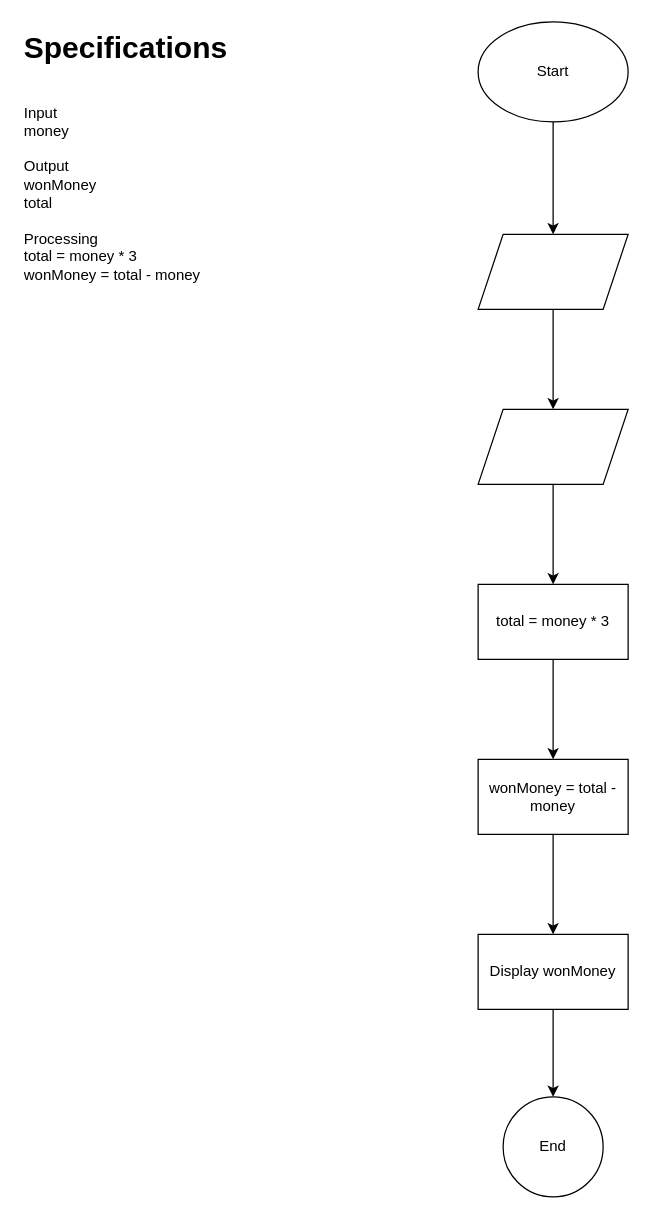
Some shapes in this 650 by 1219 pixel diagram are drawn without their labels. Here are the shapes that lost their labels. From the top down, the centre of each, then its label:
[552,271]: Enter money
[552,446]: Input money
